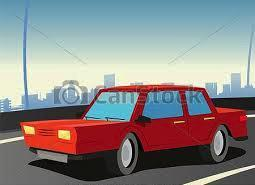car: (15, 83, 251, 181)
